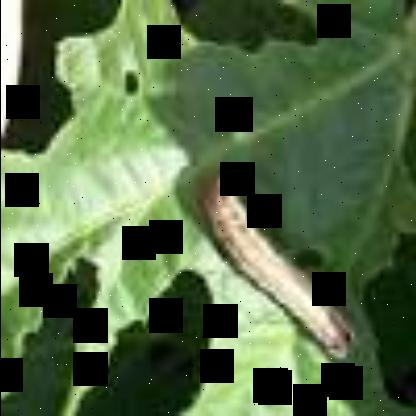oruga: (226, 156, 318, 388)
